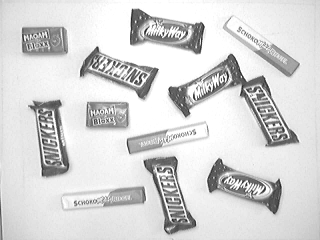Maoam: (19, 24, 70, 58), (85, 99, 132, 131)
Milkyway: (166, 52, 247, 119), (206, 157, 284, 216), (128, 6, 207, 57)
Riegel: (220, 12, 303, 79), (126, 121, 212, 157), (59, 185, 148, 212)
Snickers: (76, 44, 163, 104), (237, 73, 303, 150), (141, 154, 198, 237), (26, 96, 72, 180)
